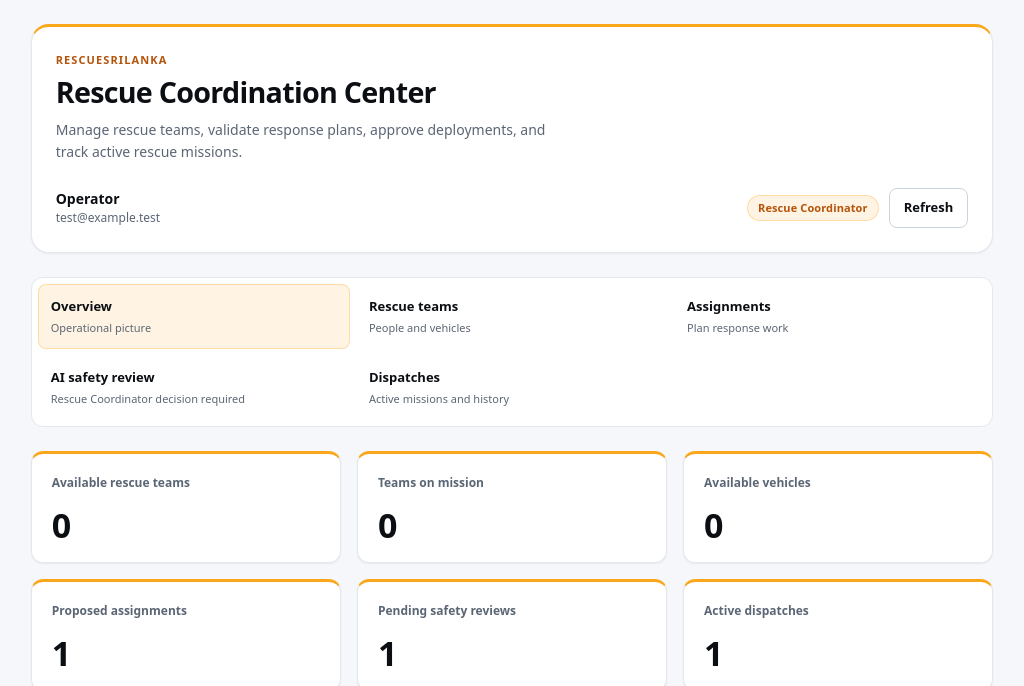
Test: keeps current planning and active missions but excludes terminal assignments and revision candidates
Expected: the button "Refresh" is shown, 889,188 -> 968,228
Click the button "Assignments Plan response work" at (729, 306), box 674,284 -> 986,349
(page scrolled)
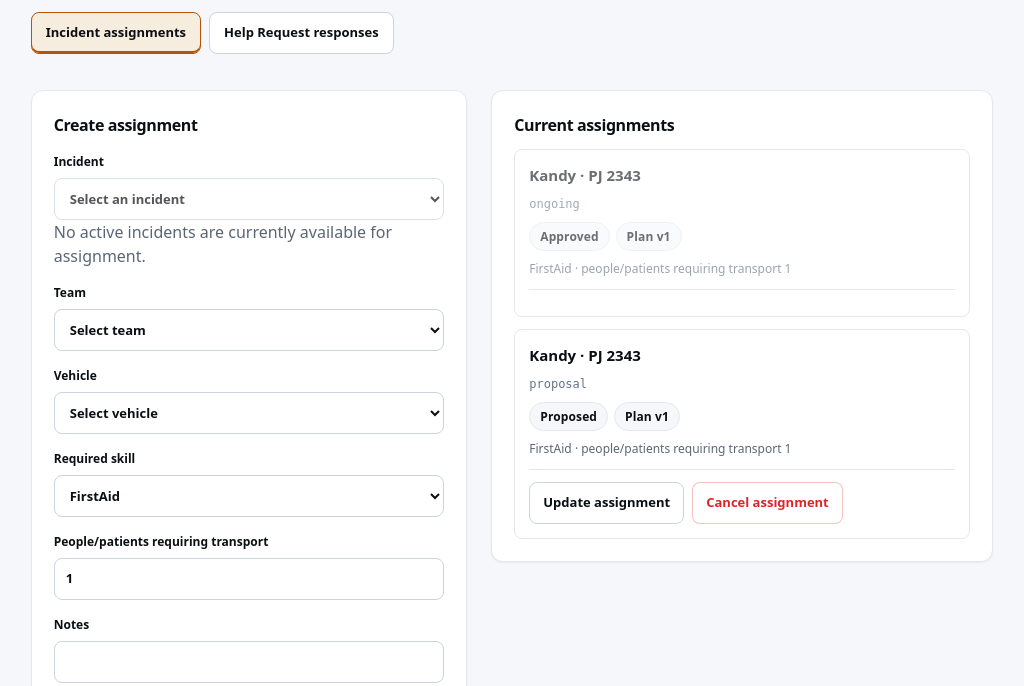
Expected: the text "ongoing" is shown, 529,197 -> 580,211
Expected: the text "proposal" is shown
Expected: the button "ongoing" is disabled, 529,164 -> 955,278
Click the text "proposal" at (558, 384), box 529,377 -> 587,391
(page scrolled)
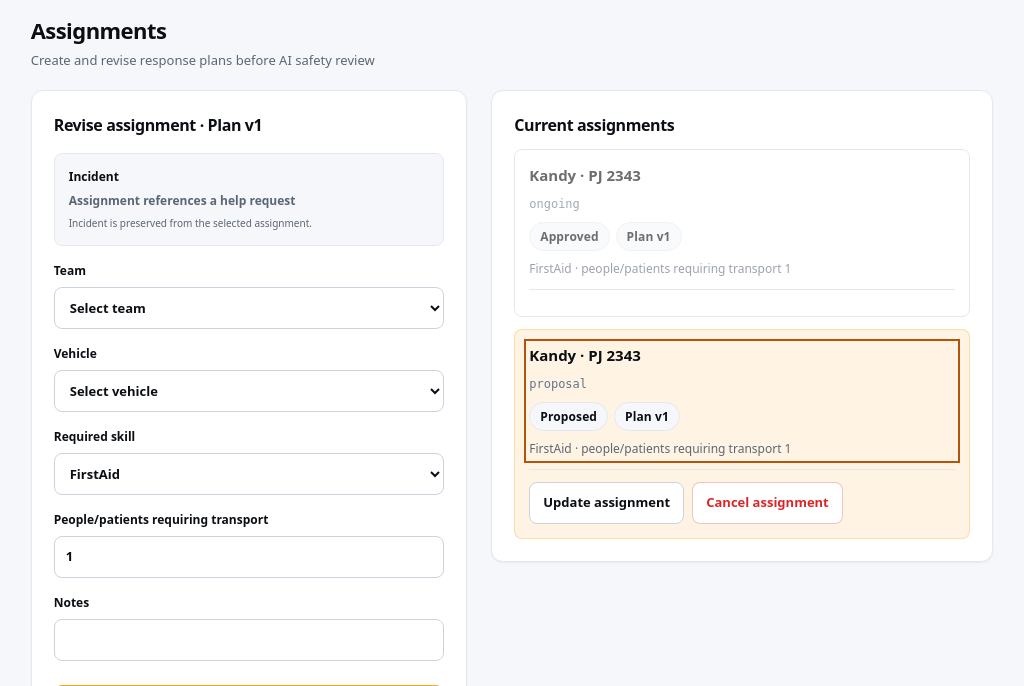
Expected: the heading "Revise assignment · Plan v1" is shown, 54,114 -> 262,136
